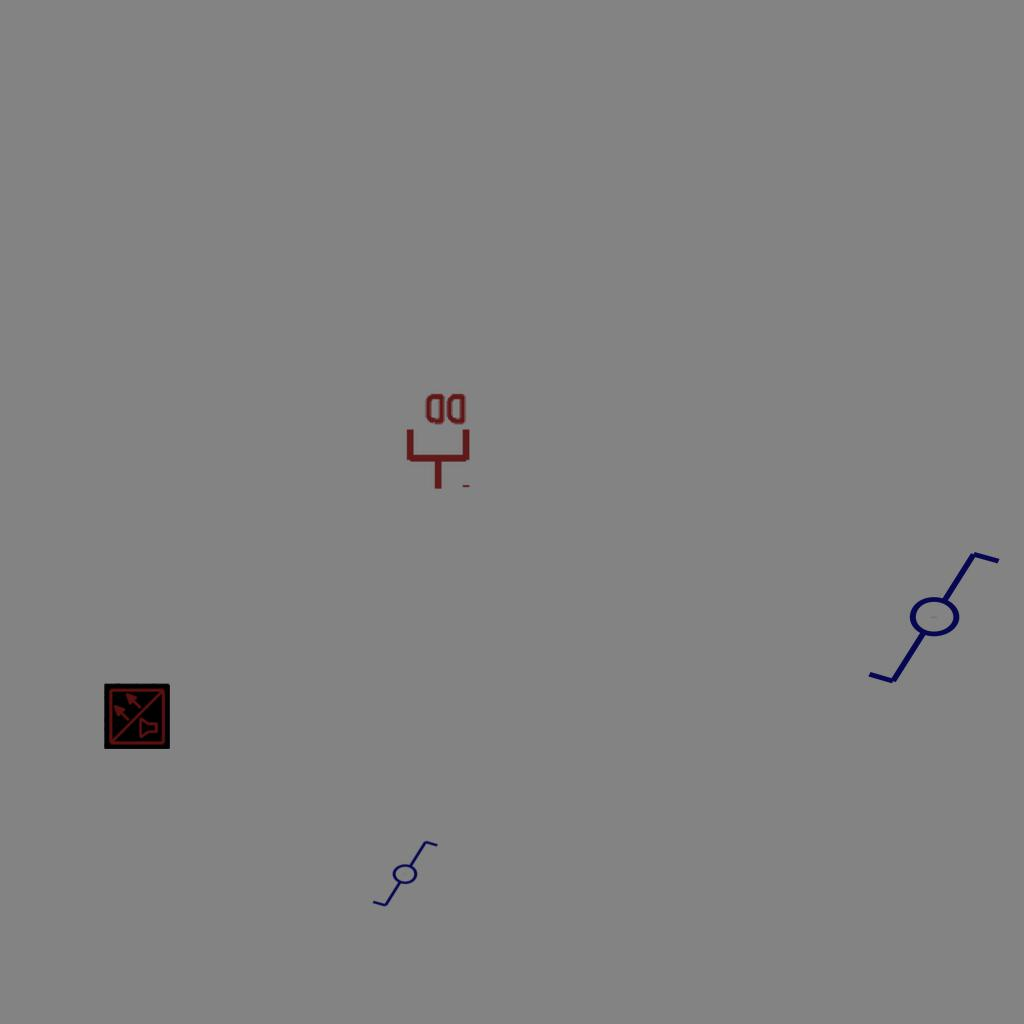Datenanschluss_zweifach: (402, 389, 471, 492)
OKW_Multisensormelder_(Kombination_optischer_Rauch-Kahlenmonoxid_Waerme-Melder): (104, 683, 170, 749)
Wechselschalter: (864, 547, 1021, 691), (362, 837, 440, 909)
